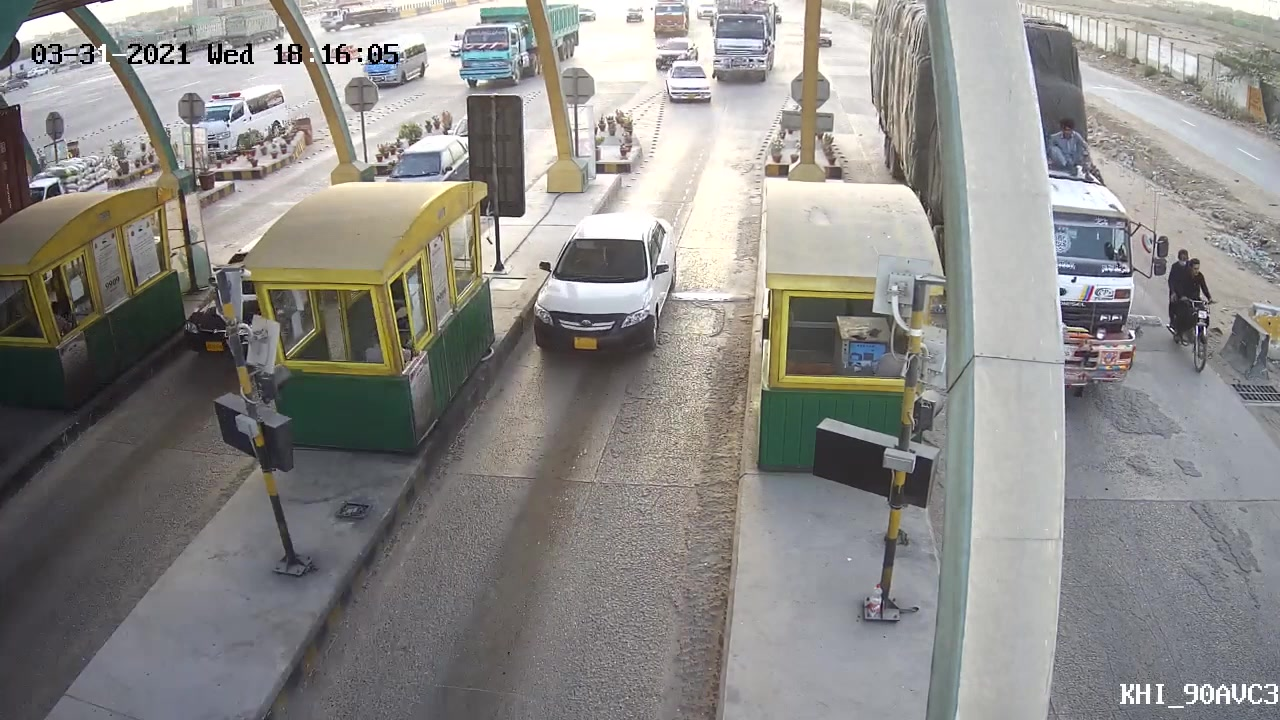F1: (521, 210, 682, 365)
